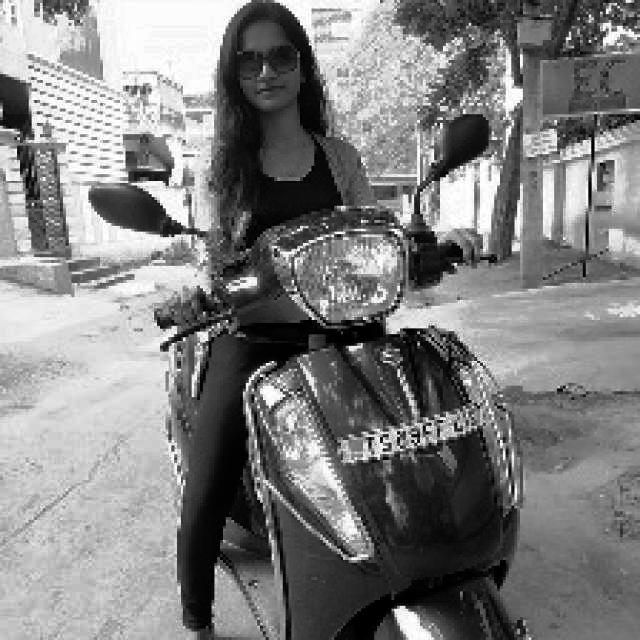Bike: (171, 233, 533, 639)
